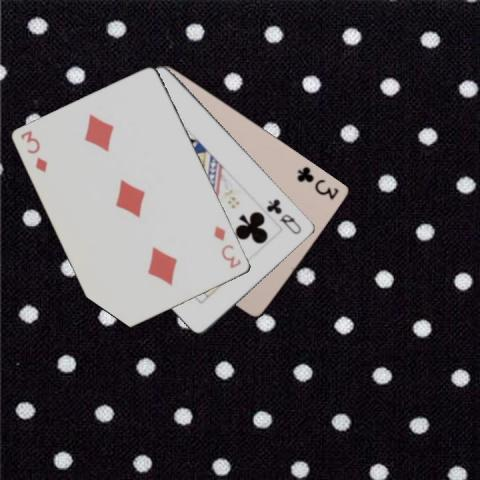3c: (294, 163, 341, 201)
3d: (211, 223, 243, 270), (18, 127, 49, 174)
Qc: (264, 196, 303, 236)
